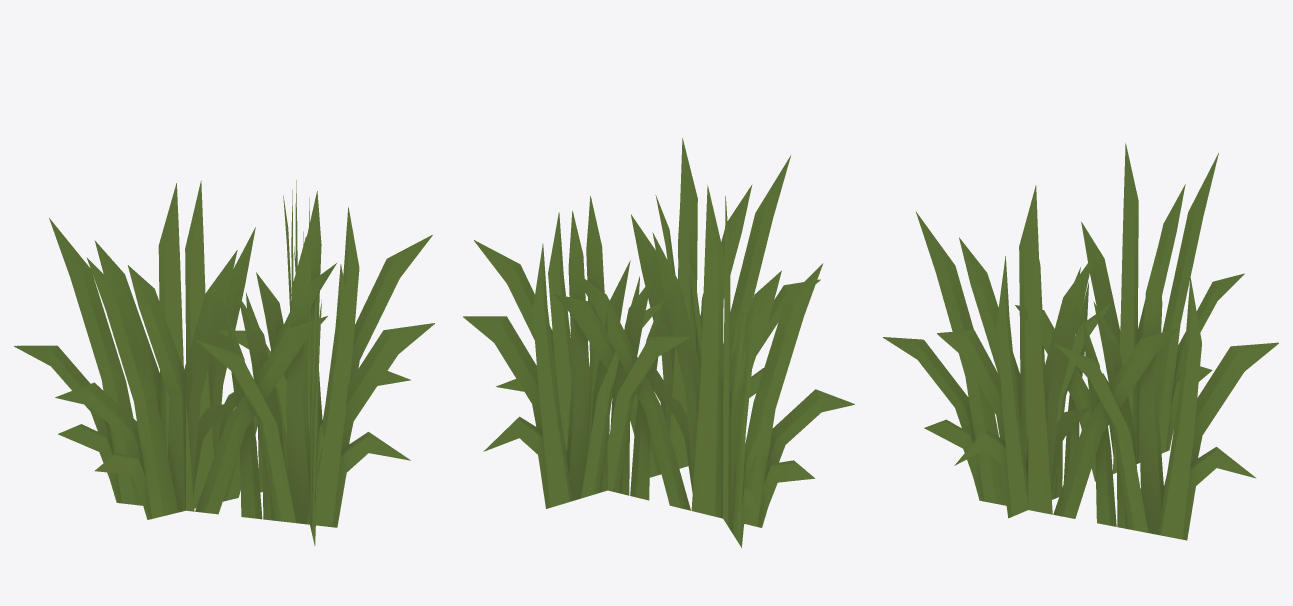
Rendered from SM_Env_Grass_Tall_Clump_01.fbx.
3 views of the same model, side by side, from view 1: azimuth 30°, elevation 25°; view 2: azimuth 150°, elevation 25°; view 3: azimuth 270°, elevation 25° (orthographic).
Parts seen in each view (by area): view 1: SM_Env_Grass_Tall_Clump_01_LOD0; view 2: SM_Env_Grass_Tall_Clump_01_LOD0; view 3: SM_Env_Grass_Tall_Clump_01_LOD0.
Boxes of the visible parts, x1,y1,x2,y2 form: SM_Env_Grass_Tall_Clump_01_LOD0: (14, 180, 434, 545); SM_Env_Grass_Tall_Clump_01_LOD0: (463, 138, 854, 547); SM_Env_Grass_Tall_Clump_01_LOD0: (883, 143, 1278, 540).
Size of what is drawn, in the model's own units: 100 by 100 by 91.04.
